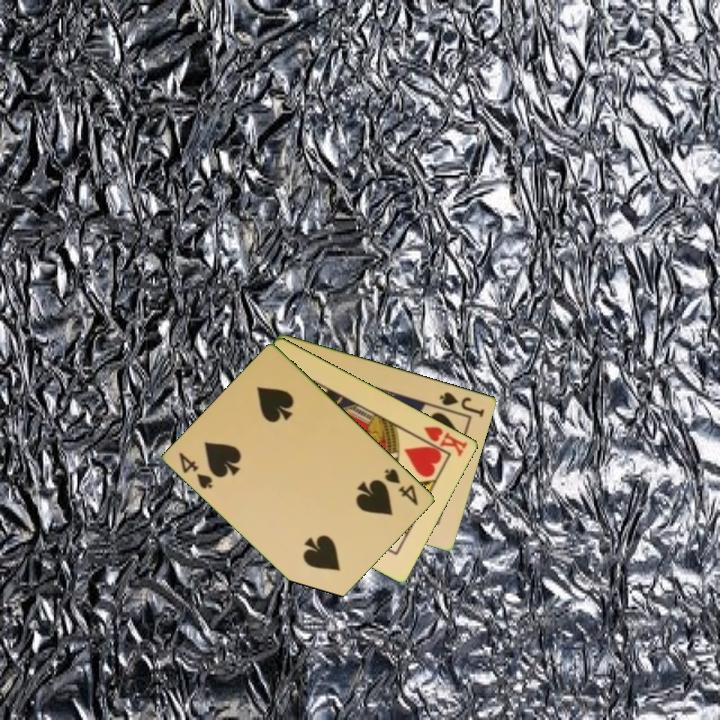4s: (381, 465, 422, 509), (176, 449, 216, 492)
Js: (436, 388, 488, 420)
Kh: (413, 422, 471, 459)
